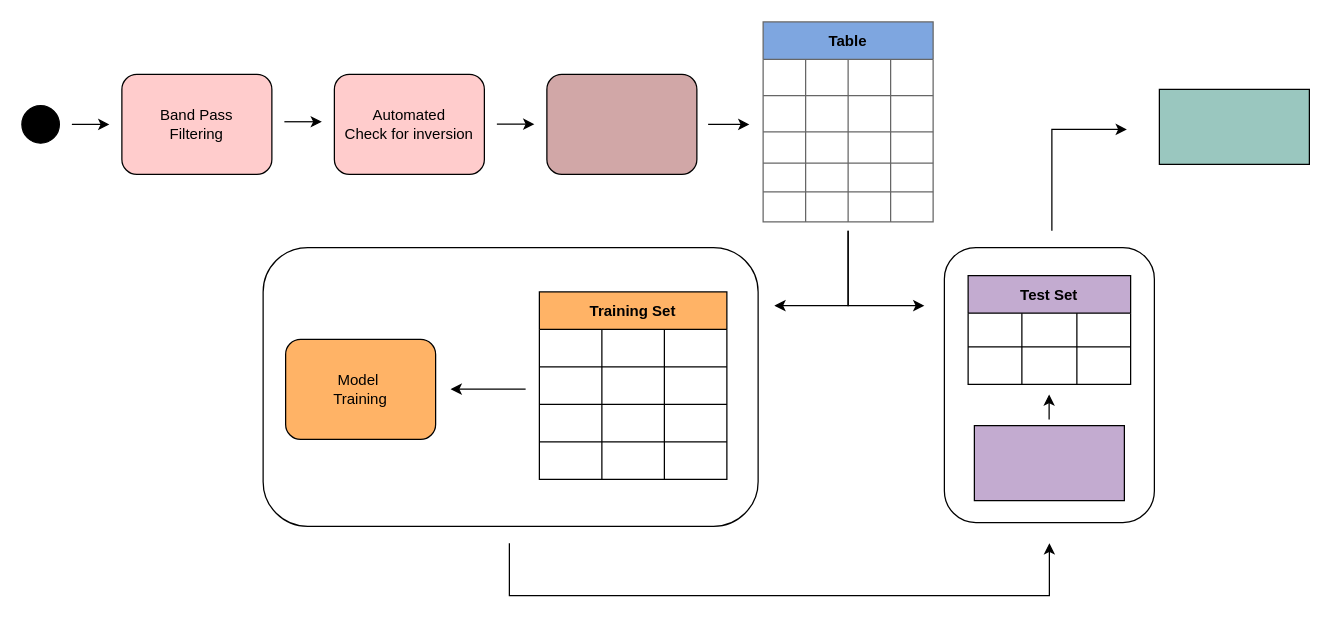
This 1331x628 diagram has some shape labels left out. The shapes that lost their labels are listed below. From the top down, each one's box as (x1, y1, x2, y2) in pixels, then its label:
(546, 73, 697, 174): Feature Extraction
(1158, 88, 1309, 164): Model Evaluation
(973, 424, 1124, 501): Final Model
